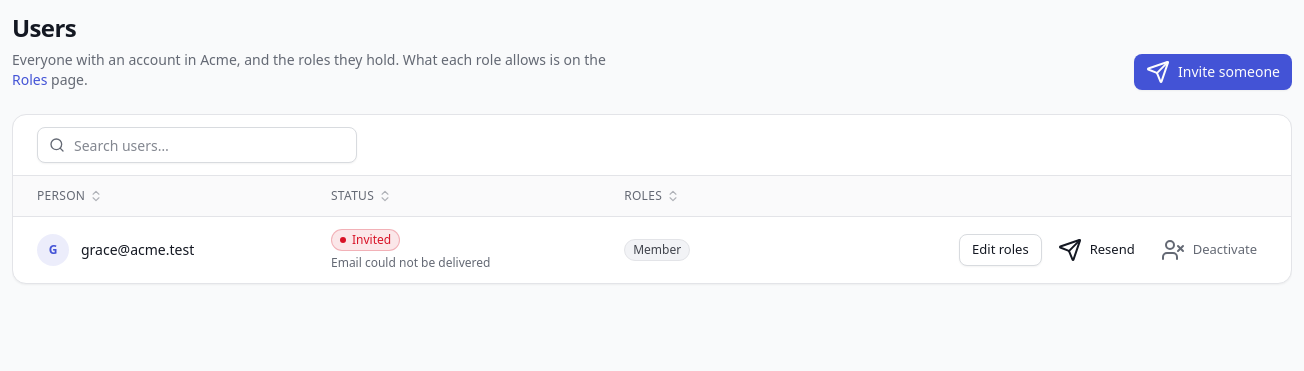
Test case: users page › says when an invitation email failed, and resends it
Expected: the cell named "Invited: email could not be delivered" is shown, x1=315 y1=216 x2=608 y2=282
Click the button with aria-label "Resend invitation to grace@acme.test". click: [1096, 250]
box: x1=1048 y1=234 x2=1145 y2=266
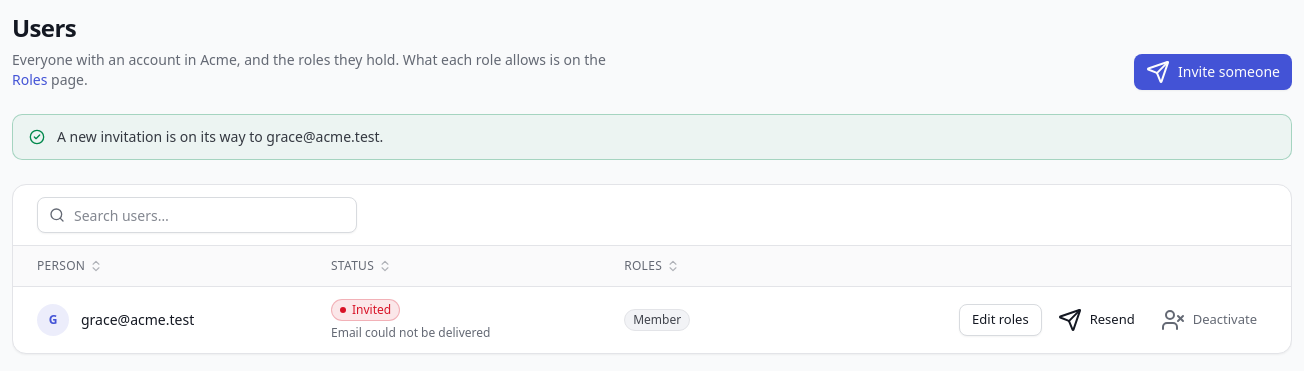
Result: the text "A new invitation is on its way to grace@acme.test." is shown at x1=57 y1=127 x2=383 y2=147
